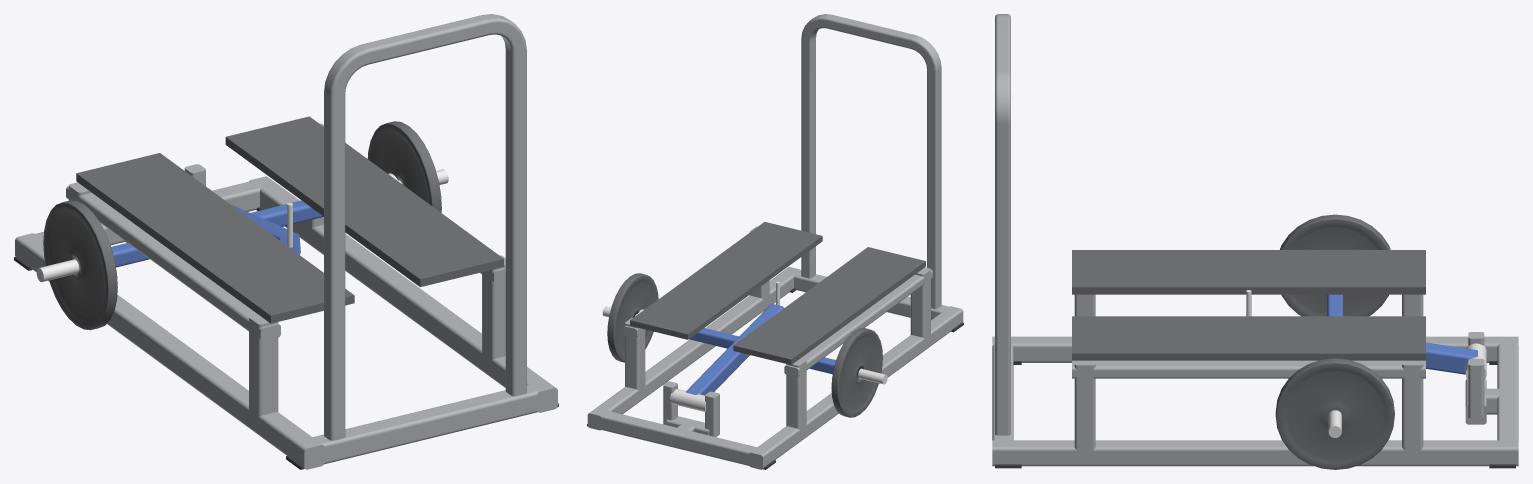
3 renders of one model, left to right at view 1: azimuth 30°, elevation 25°; view 2: azimuth 150°, elevation 25°; view 3: azimuth 270°, elevation 25°, orthographic. The views are drawn at different scales.
Visible parts, largest first — view 1: foot_plate (×2), base, handle_arch_tube, lever, platform, lever_crossbar, lever_bar, plate_horn; view 2: foot_plate (×2), base, handle_arch_tube, platform, lever, lever_bar, frame, lever_crossbar, lever_hub; view 3: foot_plate (×2), base, lever, platform, handle_arch_tube, frame, lever_bar.
Part boxes in pixels (bbox=[...]): foot_plate (×2): bbox=[76, 116, 503, 323]; base: bbox=[14, 176, 558, 469]; handle_arch_tube: bbox=[324, 14, 526, 440]; lever: bbox=[43, 121, 441, 330]; platform: bbox=[66, 123, 505, 425]; lever_crossbar: bbox=[111, 200, 323, 267]; lever_bar: bbox=[231, 204, 300, 254]; plate_horn: bbox=[36, 259, 79, 282]; foot_plate (×2): bbox=[630, 222, 925, 364]; base: bbox=[587, 267, 963, 469]; handle_arch_tube: bbox=[801, 14, 941, 309]; platform: bbox=[623, 226, 932, 434]; lever: bbox=[607, 273, 882, 417]; lever_bar: bbox=[686, 303, 783, 395]; frame: bbox=[663, 381, 719, 437]; lever_crossbar: bbox=[689, 328, 835, 374]; lever_hub: bbox=[670, 389, 705, 411]; foot_plate (×2): bbox=[1072, 250, 1425, 360]; base: bbox=[992, 336, 1518, 468]; lever: bbox=[1275, 214, 1394, 469]; platform: bbox=[1072, 294, 1425, 450]; handle_arch_tube: bbox=[995, 14, 1010, 435]; frame: bbox=[1465, 332, 1486, 424]; lever_bar: bbox=[1426, 342, 1477, 374].
Bounding box in the file's own units: 1.6 × 1.53 × 1.99.
